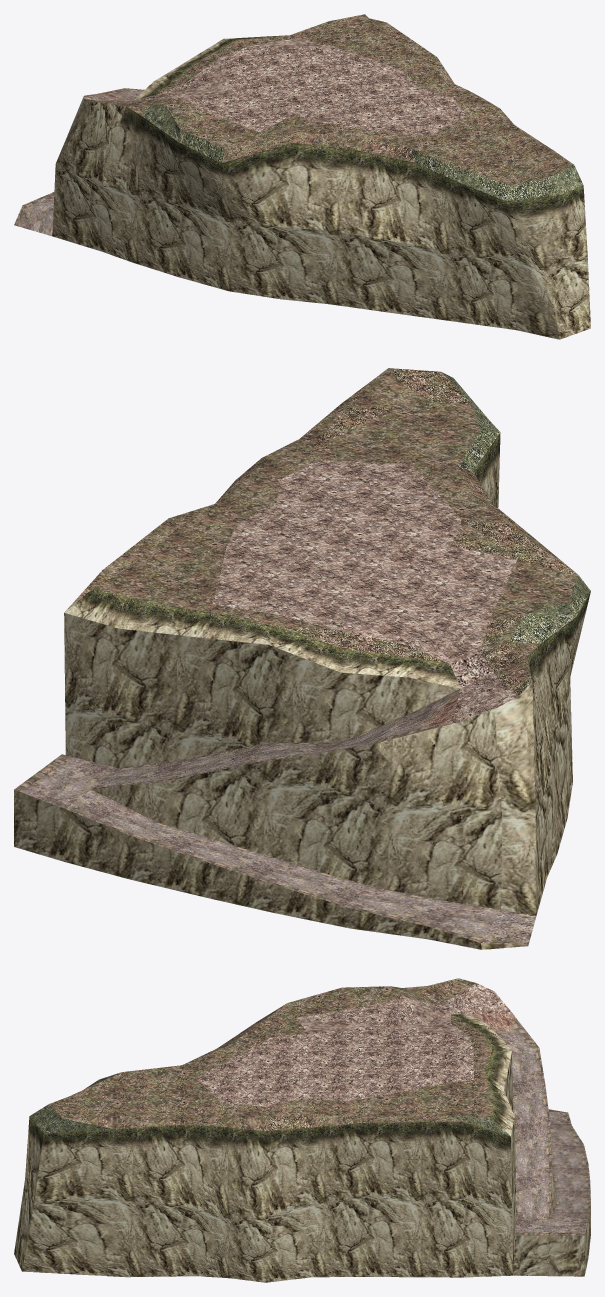
Rendered from mou2.obj.
The picture shows the model from 3 angles, top to bottom: view 1: azimuth 30°, elevation 25°; view 2: azimuth 150°, elevation 25°; view 3: azimuth 270°, elevation 25°; orthographic projection. The views are drawn at different scales.
Visible parts, largest first — view 1: mou2; view 2: mou2; view 3: mou2.
Boxes of the visible parts, box(x1,y1,x2,y2) form: mou2: box(14, 14, 590, 339); mou2: box(14, 368, 590, 949); mou2: box(14, 978, 590, 1282).
Bounding box in the file's own units: 963 × 415 × 1341.
